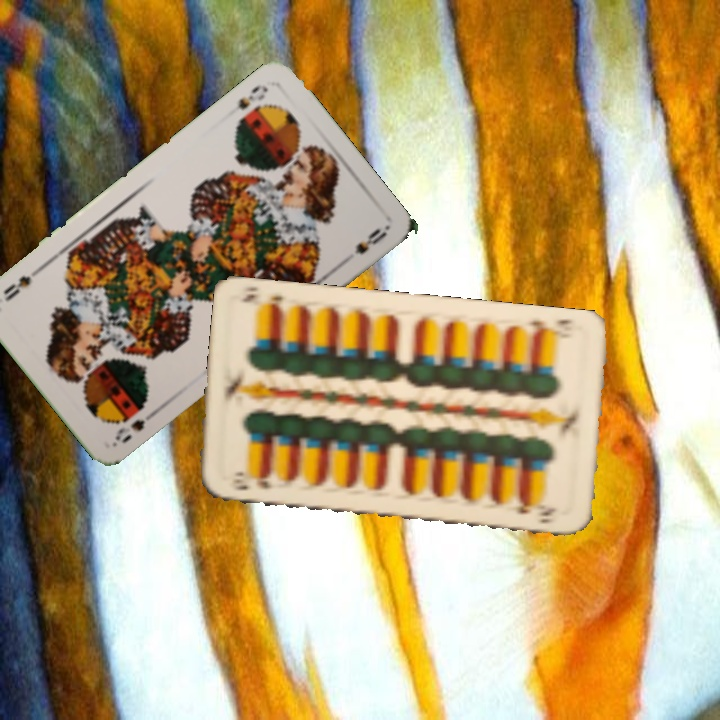E10: (527, 315, 576, 339), (225, 470, 275, 493)
SO: (110, 404, 161, 446), (233, 80, 271, 113)
